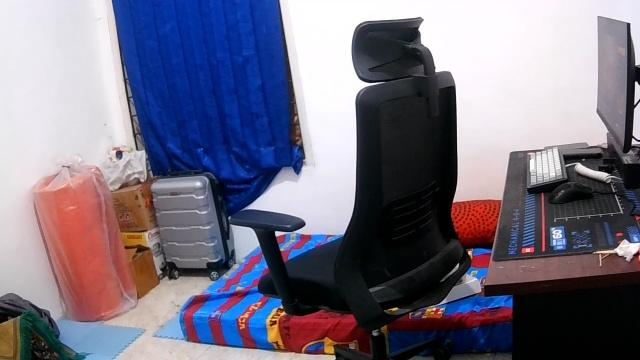AIO PC-Monitor-TV: (593, 14, 639, 153)
Kursi: (226, 15, 471, 330)
Meja: (482, 142, 639, 305)
